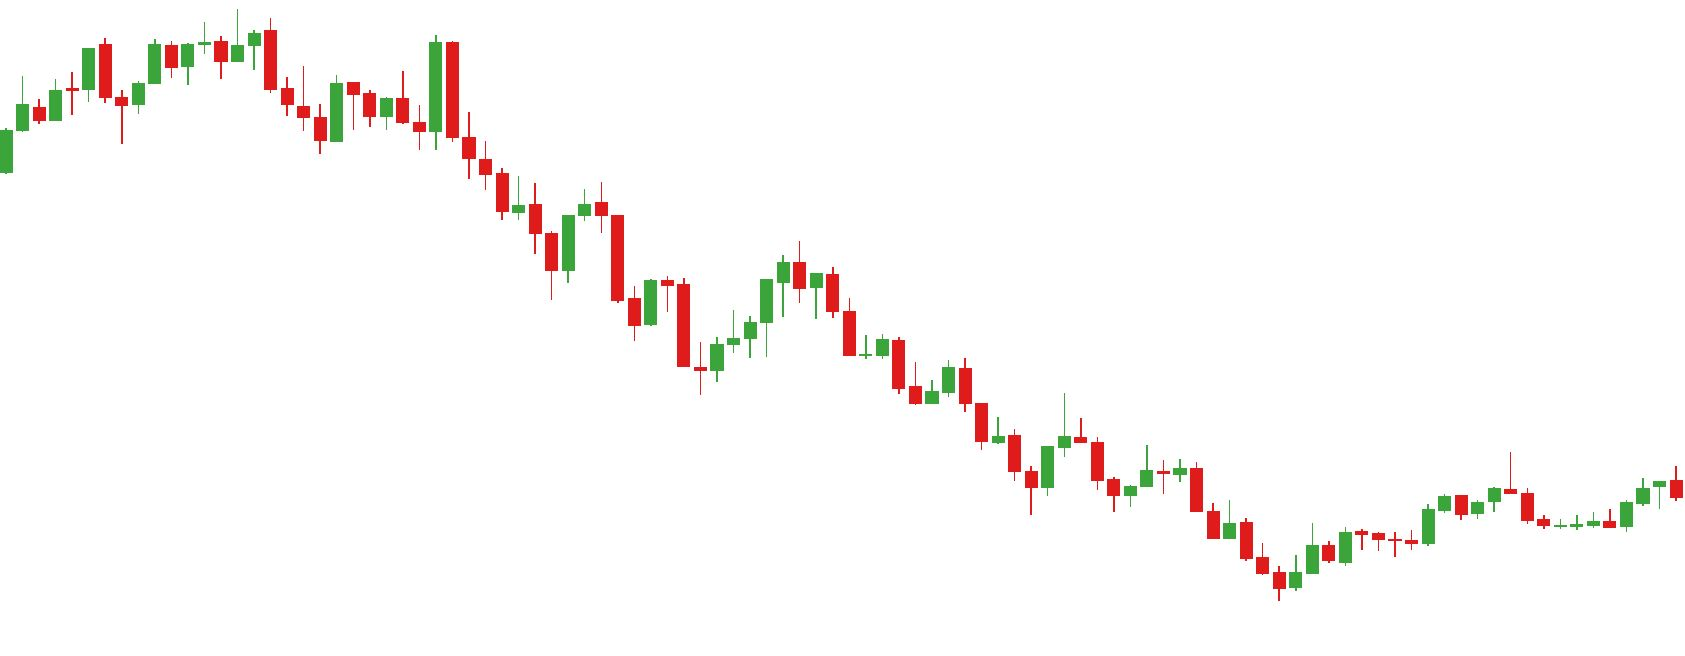sell: (642, 239, 806, 344), (327, 34, 461, 122), (78, 23, 214, 102)
